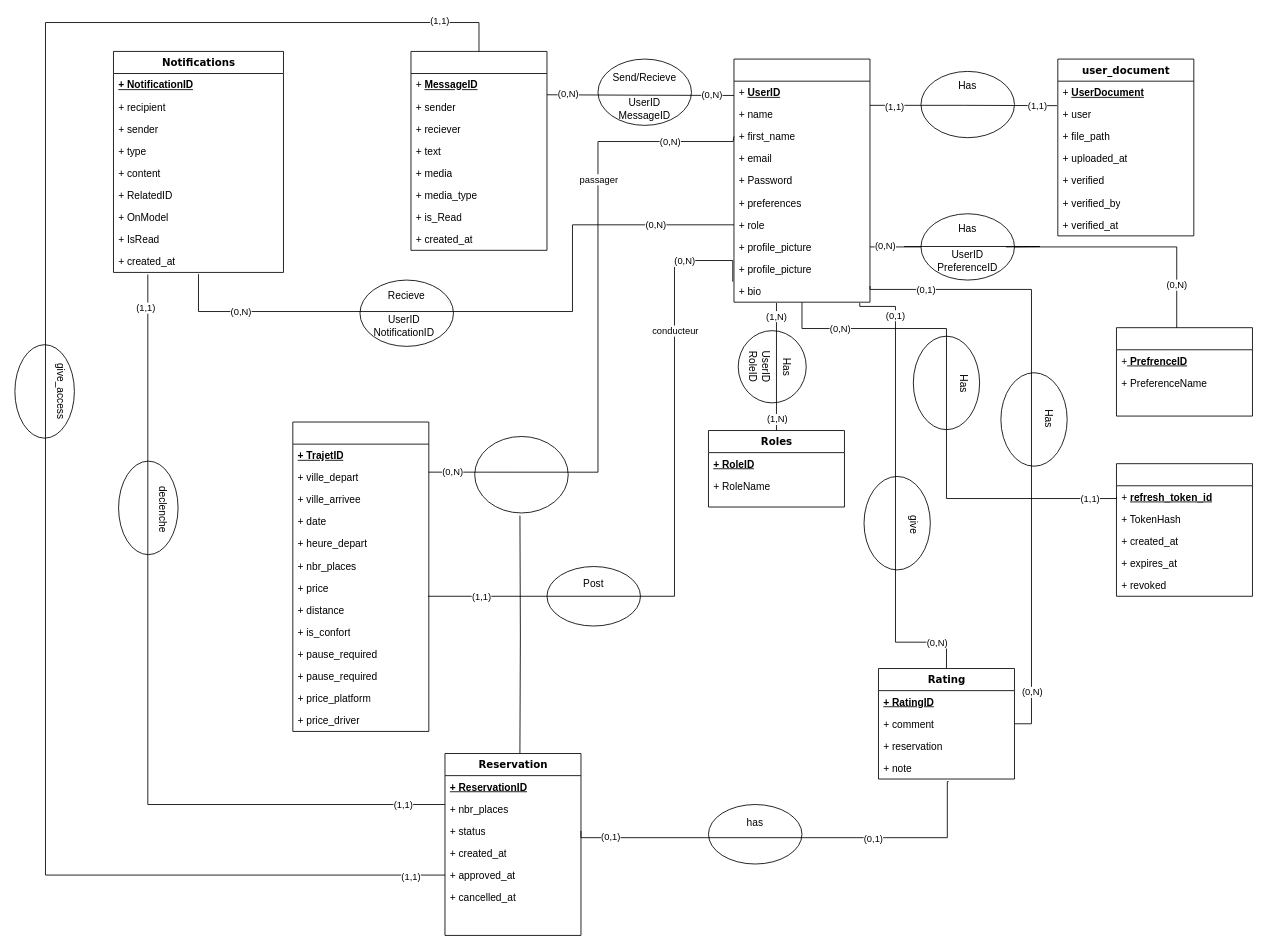
Image size: 1267x950. Some labels were removed from this diagram. Here are the shapes that lost their labels. From the top down, the box of each, then its label:
(410, 51, 547, 250): Messagerie
(733, 58, 870, 302): Users
(1116, 327, 1252, 416): Preferences
(474, 436, 568, 513): Reserve
(1116, 463, 1252, 596): refresh_tokens
(292, 421, 429, 731): Trajets
